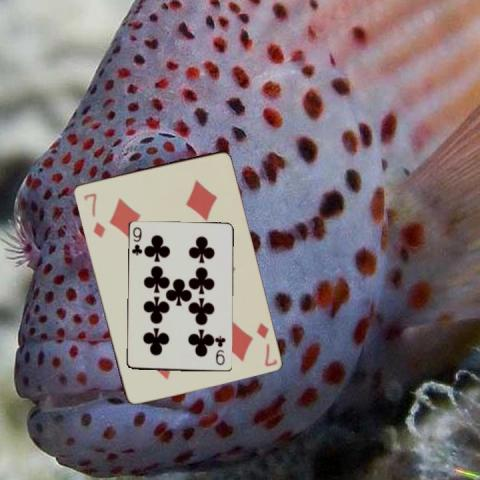7d: (80, 190, 107, 240), (253, 319, 278, 368)
9c: (129, 225, 144, 257), (215, 333, 227, 367)
